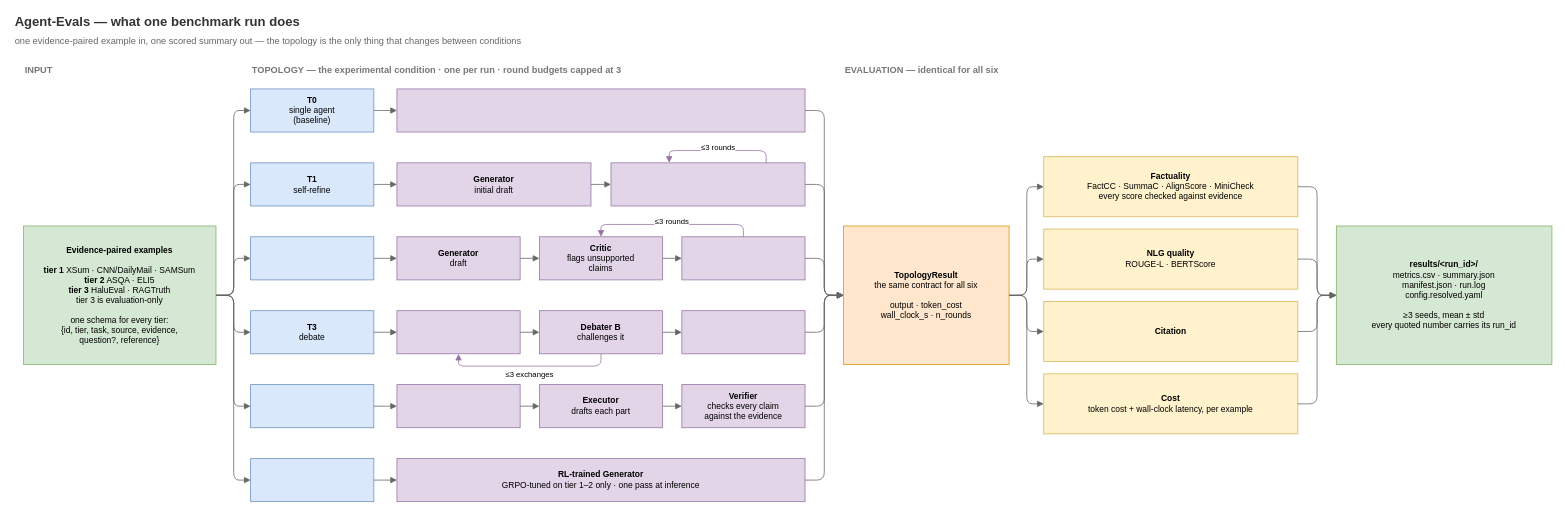
This 1565x515 diagram has some shape labels left out. The centre of each missing label's shape, as x and y in pixels:
Debater A argues for its summary: (458,332)
Generator one pass · no revision · no second model: (600,110)
Judge picks the final answer: (743,332)
Planner decomposes the task: (458,406)
Reviser rewrites against the evidence: (743,258)
Self-Refine the same agent critiques and rewrites its own draft: (707,184)
T2 critique–revise: (312,258)
T4 plan–exec–verify: (312,406)
T5 RL-trained: (312,480)
